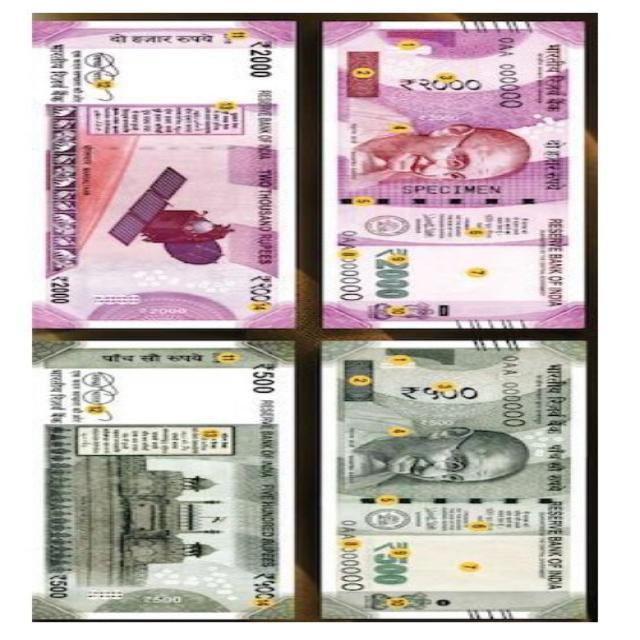500IndianRupees: (39, 342, 294, 620)
